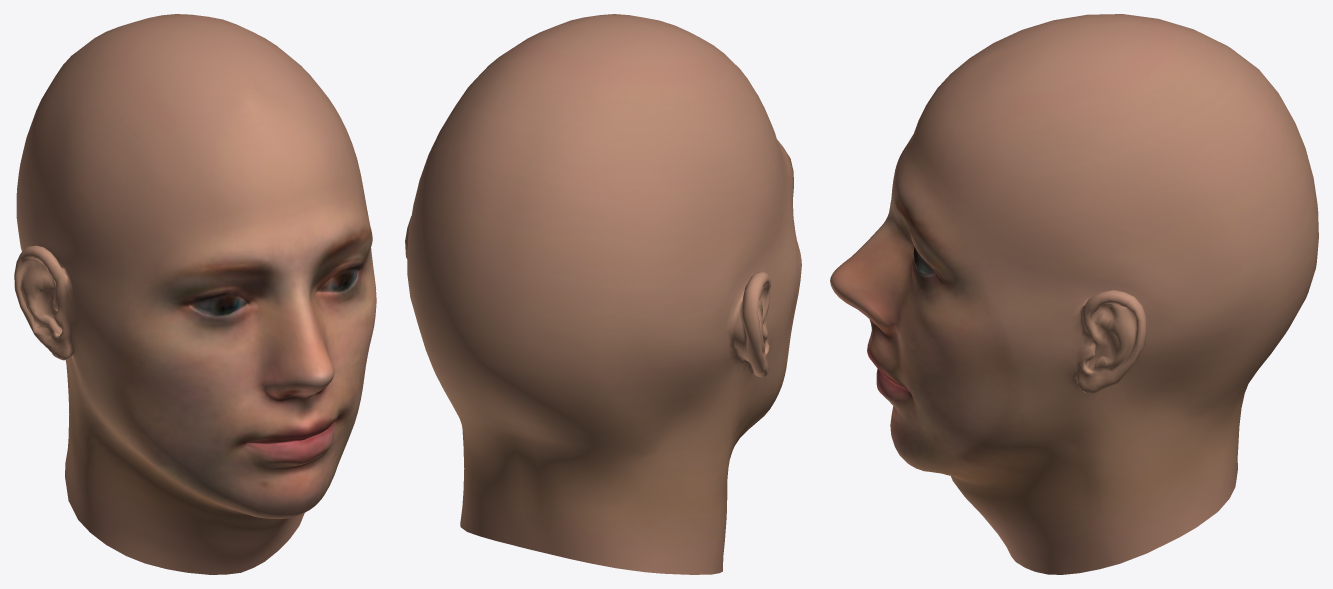
The picture shows the model from 3 angles, left to right: view 1: azimuth 30°, elevation 25°; view 2: azimuth 150°, elevation 25°; view 3: azimuth 270°, elevation 25°; orthographic projection. The views are drawn at different scales.
Parts seen in each view (by area): view 1: HeadHires; view 2: HeadHires; view 3: HeadHires.
Boxes of the visible parts, bbox=[...] form: HeadHires: bbox=[14, 14, 376, 574]; HeadHires: bbox=[405, 14, 801, 574]; HeadHires: bbox=[830, 14, 1318, 574].
Size of the model in its own units: 191 by 283 by 240.
Materials: 1 (1 with a texture image).
